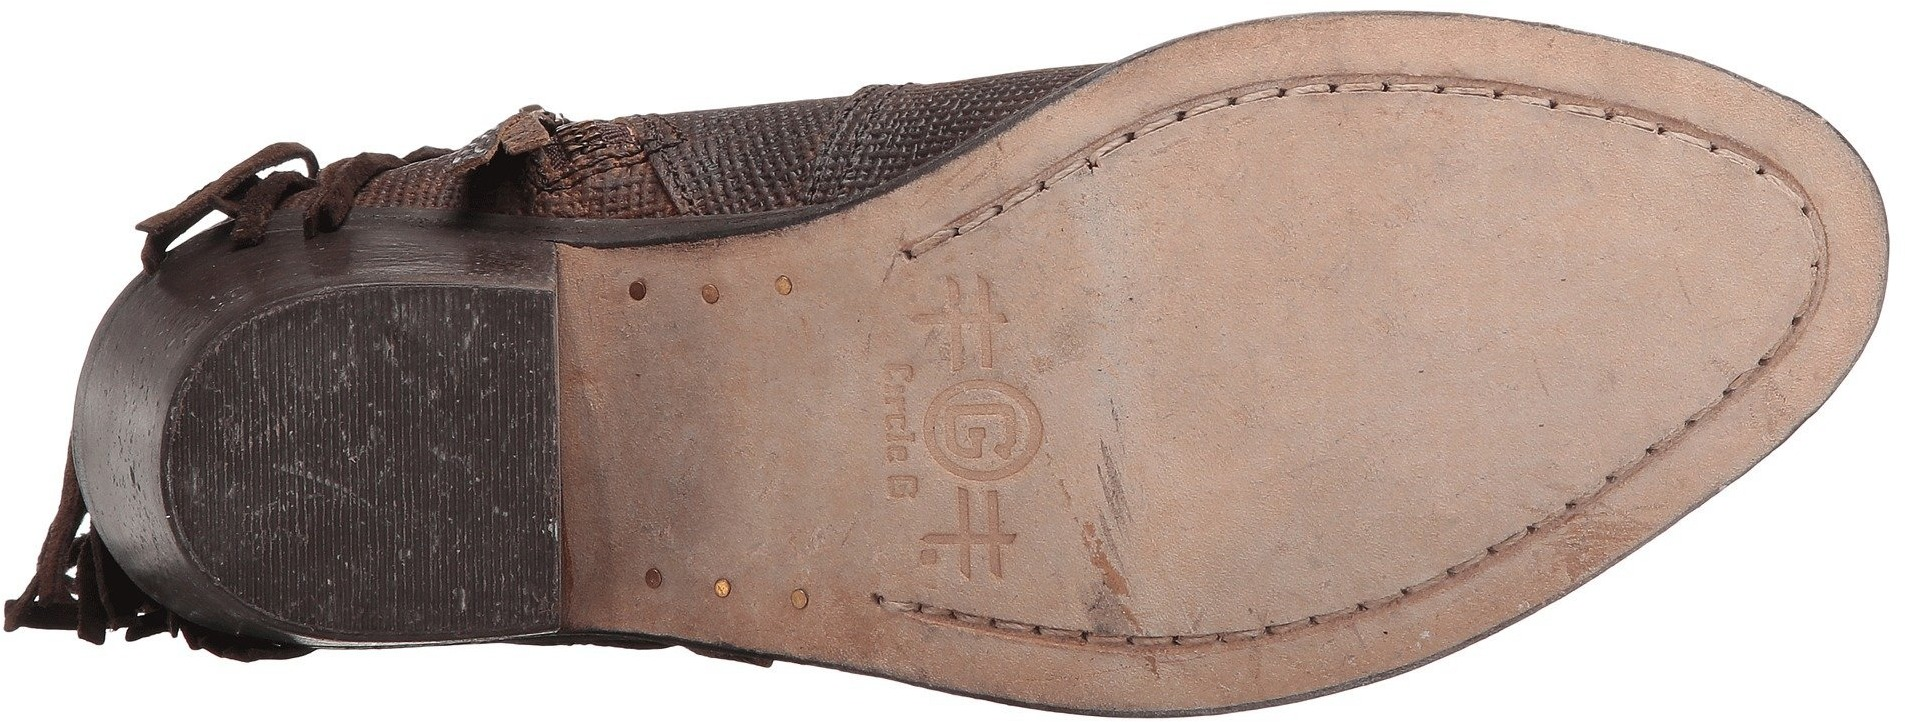circle: (867, 252, 1067, 592), (697, 551, 865, 656), (607, 267, 737, 389), (590, 267, 823, 320), (750, 258, 816, 334)
line: (867, 252, 1067, 592), (255, 354, 488, 546)
other: (163, 284, 561, 641)
text: (867, 252, 1067, 592)
